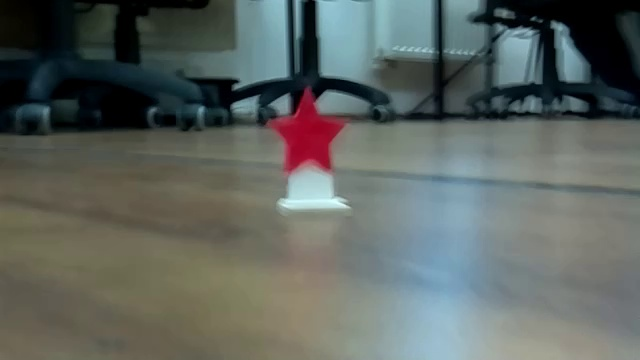star: (249, 84, 366, 220)
